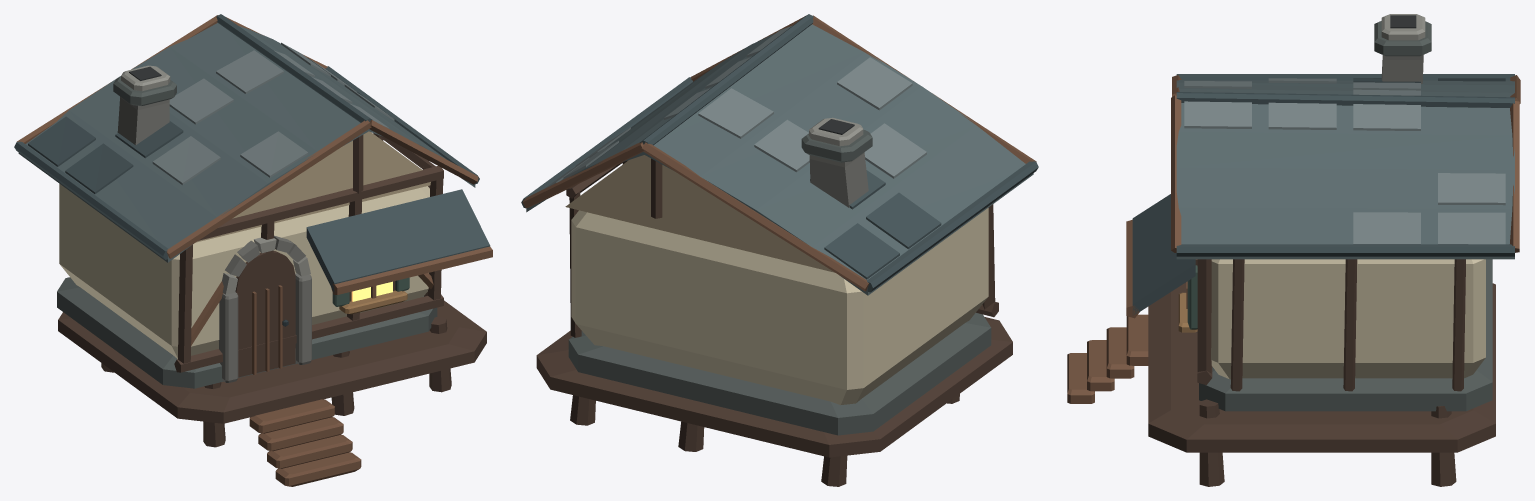
The model's file is BLD_V3_River_StiltHouse.glb.
The picture shows the model from 3 angles, left to right: view 1: azimuth 30°, elevation 25°; view 2: azimuth 150°, elevation 25°; view 3: azimuth 270°, elevation 25°; orthographic projection. The views are drawn at different scales.
Visible parts, largest first — view 1: BLD_V3_River_StiltHouse; view 2: BLD_V3_River_StiltHouse; view 3: BLD_V3_River_StiltHouse.
Boxes of the visible parts, x1=… form: BLD_V3_River_StiltHouse: x1=14, y1=14, x2=492, y2=486; BLD_V3_River_StiltHouse: x1=521, y1=14, x2=1038, y2=486; BLD_V3_River_StiltHouse: x1=1067, y1=14, x2=1520, y2=486.
Size of the model in its own units: 3.27 by 2.91 by 3.44.
